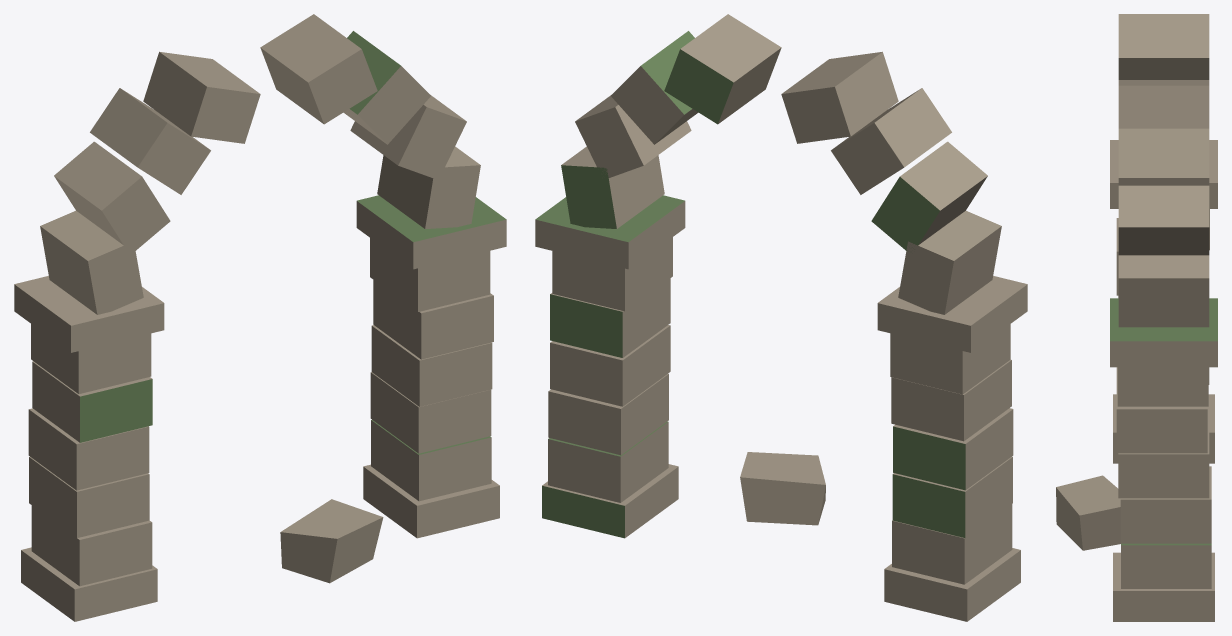
The model's file is ruin_arch.glb.
3 views of the same model, side by side, from view 1: azimuth 30°, elevation 25°; view 2: azimuth 150°, elevation 25°; view 3: azimuth 270°, elevation 25° (orthographic). The views are drawn at different scales.
Visible parts, largest first — view 1: ruin_arch; view 2: ruin_arch; view 3: ruin_arch.
Part boxes in pixels (left/top/right/bottom): ruin_arch: left=14, top=14, right=506, bottom=621; ruin_arch: left=535, top=14, right=1027, bottom=621; ruin_arch: left=1056, top=14, right=1217, bottom=621.
Bounding box in the file's own units: 4.2 × 4.61 × 1.43.
